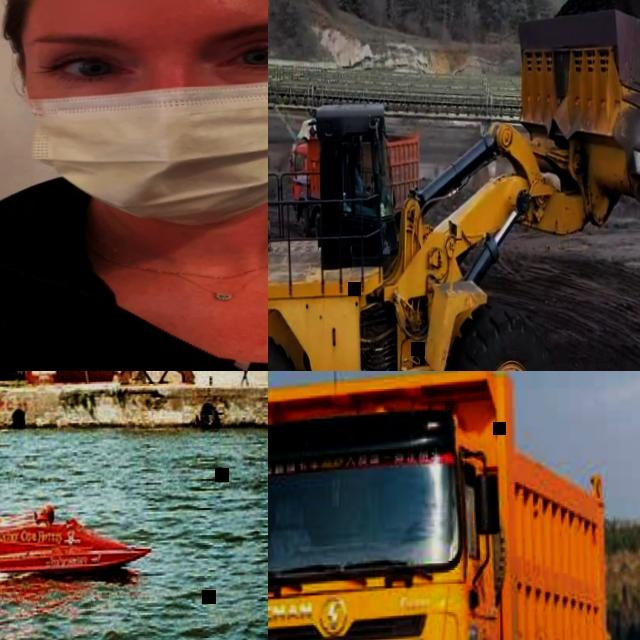Hardhat: (41, 505, 57, 521)
Mask: (12, 52, 268, 230)
NO-Hardhat: (353, 146, 361, 156)
NO-Mask: (354, 159, 361, 168)
NO-Safety Vest: (0, 192, 268, 371), (355, 169, 364, 197), (239, 371, 250, 388), (242, 371, 248, 375)
Person: (0, 0, 268, 371), (352, 143, 376, 214), (39, 506, 55, 528)
machinery: (268, 0, 640, 371), (268, 371, 613, 640), (287, 108, 426, 238)
